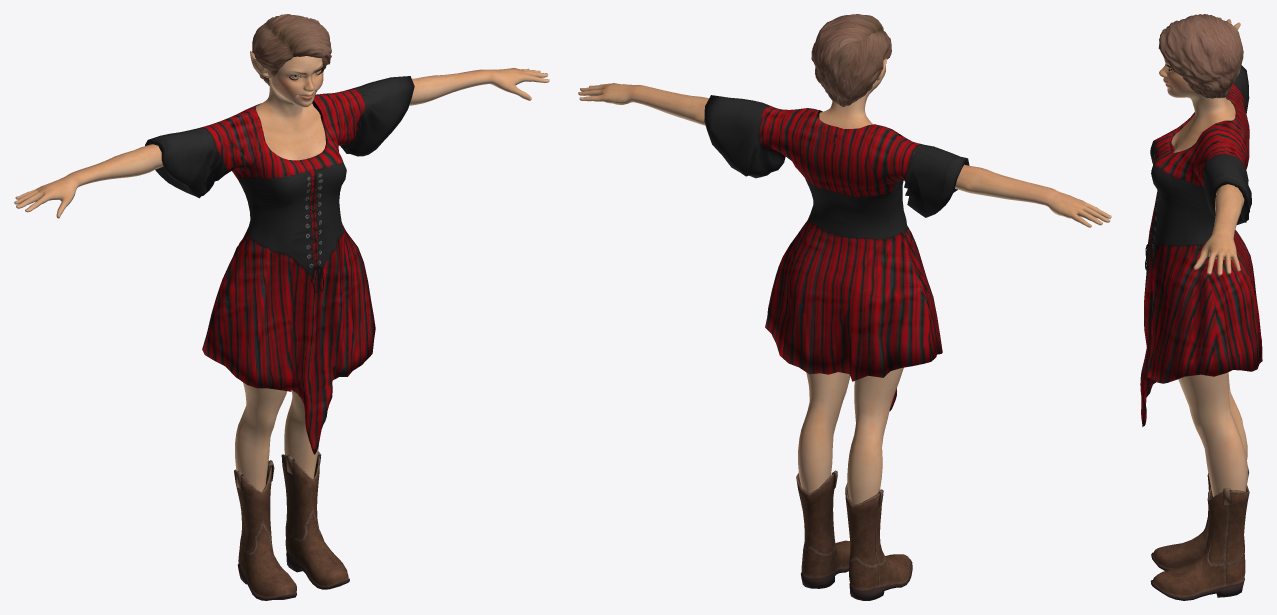
Rendered from elffem.obj.
3 views of the same model, side by side, from view 1: azimuth 30°, elevation 25°; view 2: azimuth 150°, elevation 25°; view 3: azimuth 270°, elevation 25° (orthographic).
Parts seen in each view (by area): view 1: Tops, Body, Shoes, Hair; view 2: Tops, Body, Shoes, Hair; view 3: Tops, Body, Shoes, Hair.
Part boxes in pixels (x1,y1,x2,y2): Tops: [145, 76, 414, 454]; Body: [14, 51, 549, 492]; Shoes: [234, 451, 349, 600]; Hair: [252, 14, 331, 85]; Tops: [704, 95, 969, 411]; Body: [578, 58, 1111, 504]; Shoes: [796, 470, 912, 600]; Hair: [811, 14, 891, 106]; Tops: [1140, 65, 1262, 426]; Body: [1159, 17, 1247, 496]; Shoes: [1150, 467, 1249, 600]; Hair: [1158, 14, 1243, 98].
Bounding box in the file's own units: 178 × 180 × 35.52.
Materials: 1 (1 with a texture image).
